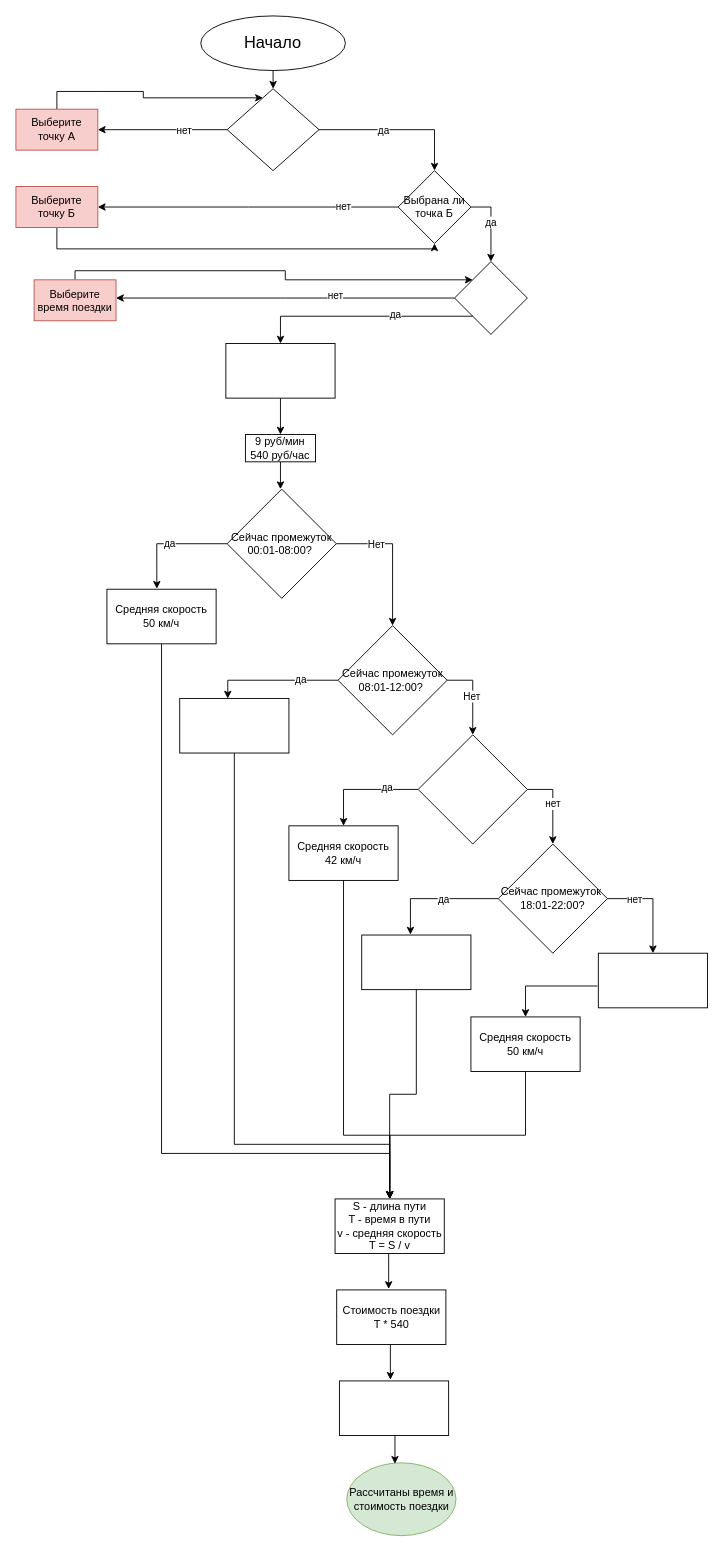
Image size: 723x1552. Some labels were removed from this diagram. Here are the shapes that lost their labels. From the top down, the centre of each, then its label:
pixel 272 129: Выбрана ли точка А
pixel 490 297: Выбрано ли время
pixel 280 370: Выбрано такси
pixel 234 725: Средняя скорость 35 км/ч
pixel 472 789: Сейчас промежуток 12:01-18:00?
pixel 416 962: Средняя скорость 30 км/ч
pixel 652 980: Сейчас промежуток 22:01-00:00
pixel 394 1408: Вывод значений времени и стоимости в соотв. места
